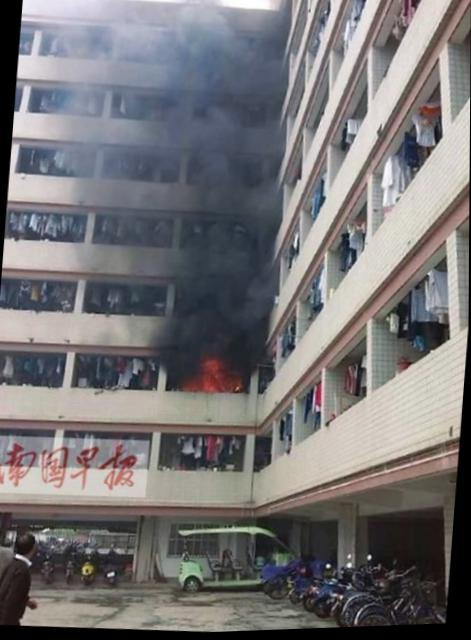fire: (161, 342, 251, 399)
